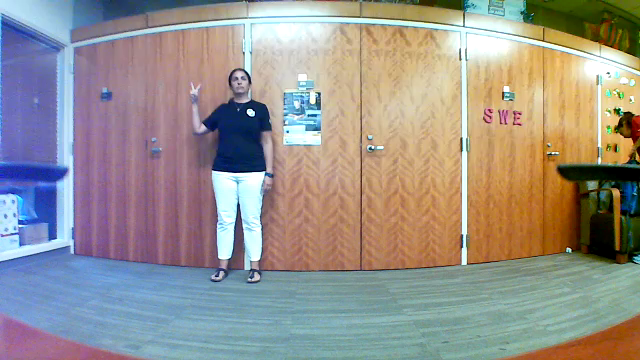peace: (186, 79, 205, 104)
